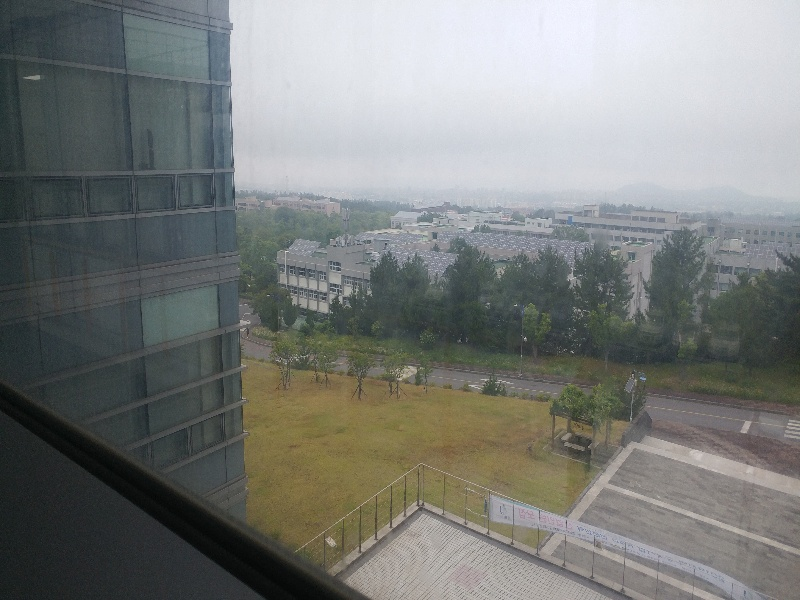College of Natural Science: (237, 190, 344, 222)
Cultural lecture hall: (279, 239, 378, 319)
